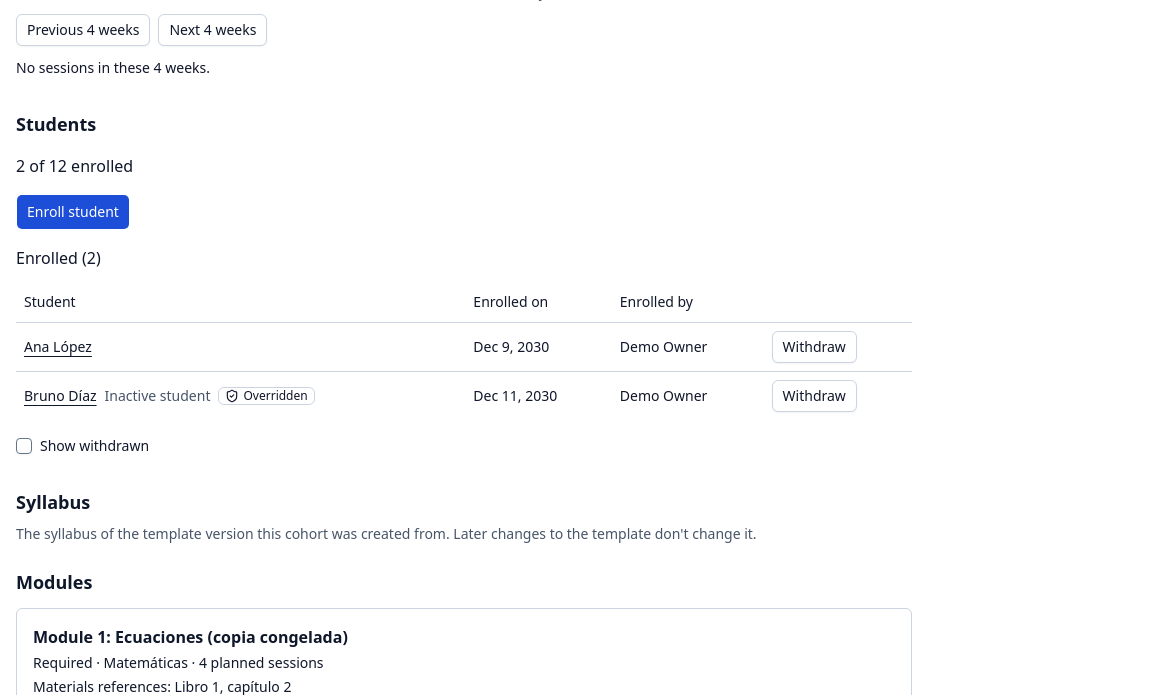
the withdraw dialog (C) › closes on version_conflict, reloads the roster and says so
The image size is (1152, 695).
(page scrolled)
Click the button "Withdraw" in the row of "Ana López": (814,346) [772,330,857,362]
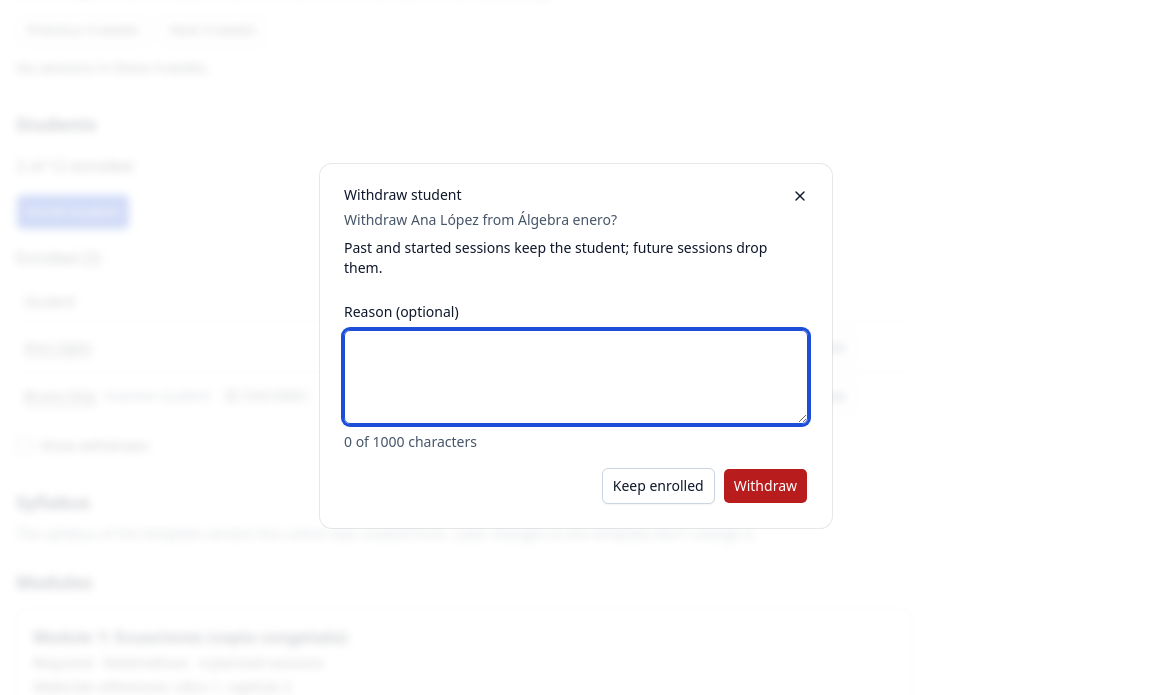
Click the button "Withdraw": (765,486) [723,468,808,504]
(page scrolled)
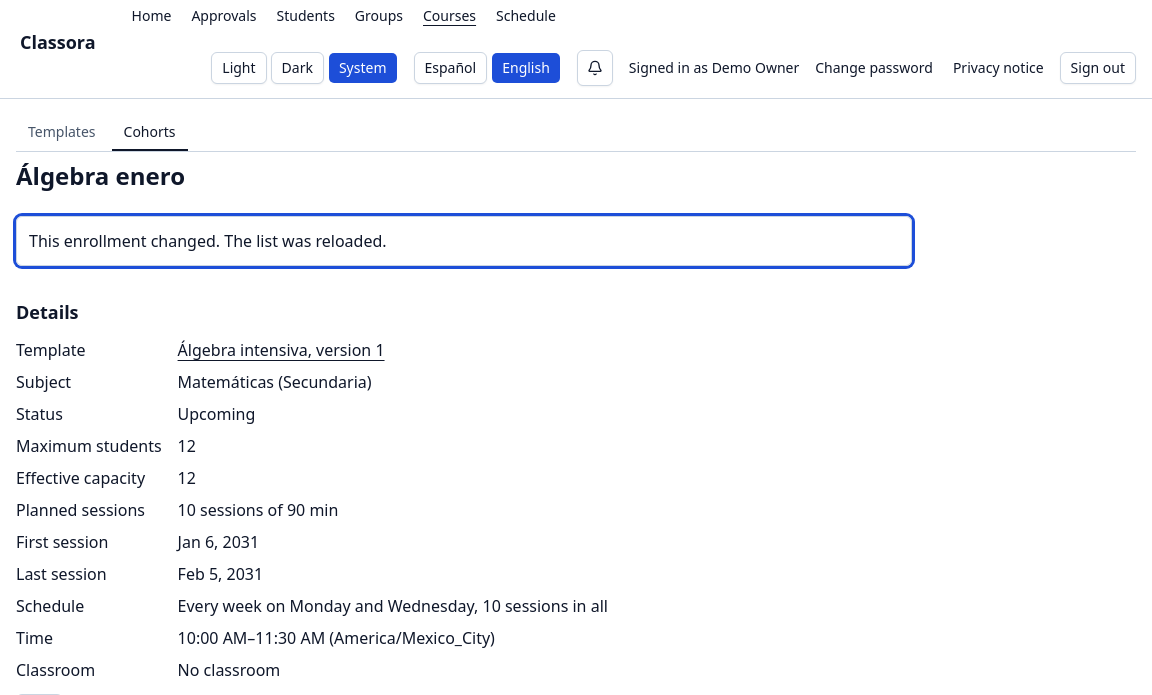
Expected: the dialog is gone
Expected: the message "This enrollment changed. The list was reloaded." is shown, [16,216,912,266]
